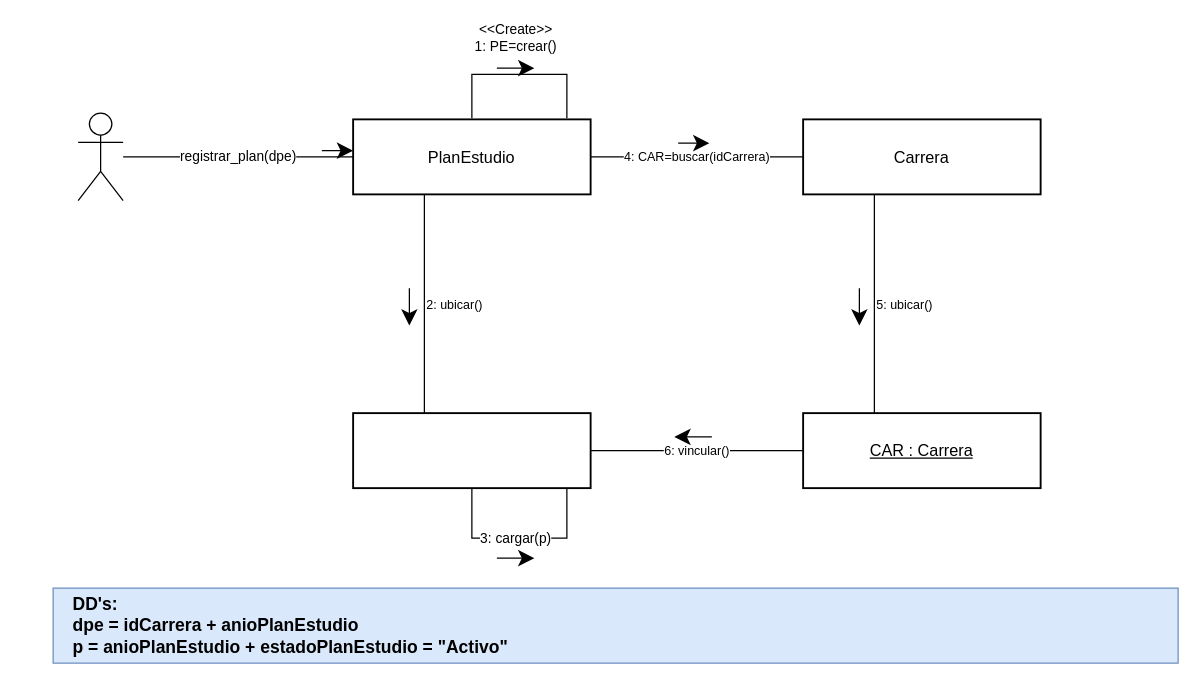
Image size: 1200x685. Some labels were removed from this diagram. Here are the shapes that lost their labels. From the top down, the centre of each, then its label:
At point (100, 156): "Coordinador de Carrera".
At point (471, 450): "PE : PlanEstudio".
